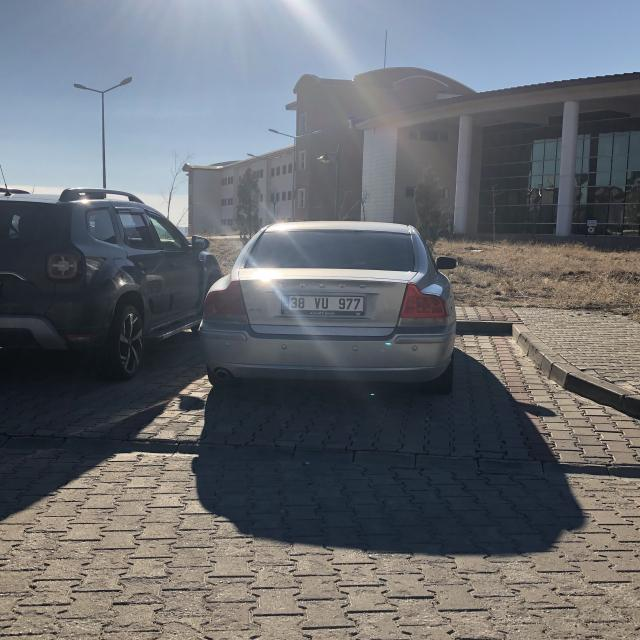license_plate: (280, 296, 364, 312)
